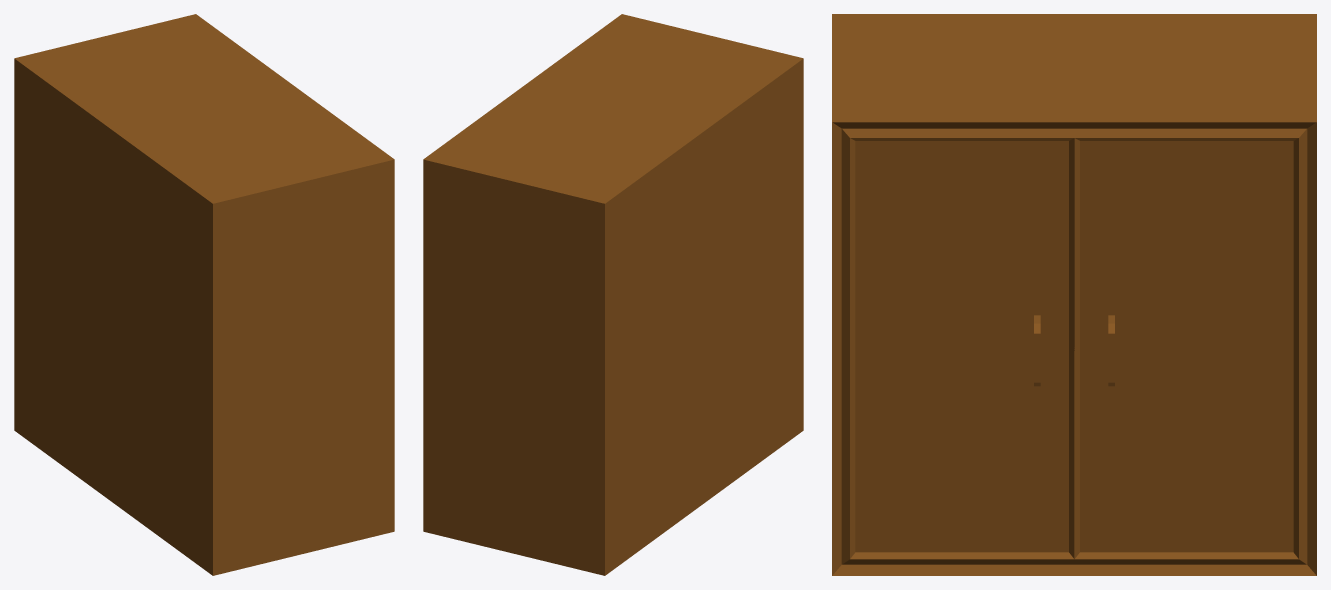
The model's file is wardrobe.fbx.
3 renders of one model, left to right at view 1: azimuth 30°, elevation 25°; view 2: azimuth 150°, elevation 25°; view 3: azimuth 270°, elevation 25°, orthographic. The views are drawn at different scales.
Visible parts, largest first — view 1: Cube.002; view 2: Cube.002; view 3: Cube.002.
Part boxes in pixels (box(x1,y1,x2,y2)): Cube.002: box(14, 14, 394, 575); Cube.002: box(423, 14, 803, 575); Cube.002: box(832, 14, 1316, 575).
Size of the model in its own units: 1020 by 1842 by 1783.
